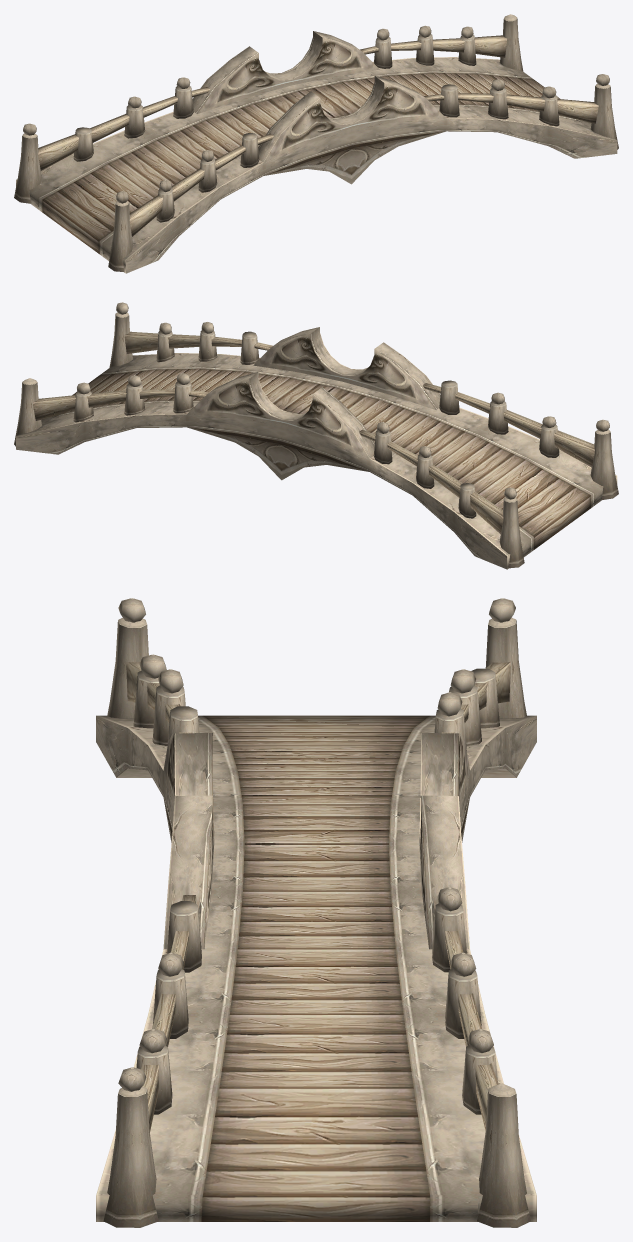
The model's file is arcanebridge2.dae.
3 views of the same model, one above another, from view 1: azimuth 30°, elevation 25°; view 2: azimuth 150°, elevation 25°; view 3: azimuth 270°, elevation 25° (orthographic). The views are drawn at different scales.
Visible parts, largest first — view 1: bridge0; view 2: bridge0; view 3: bridge0.
Boxes of the visible parts, x1,y1,x2,y2 form: bridge0: [14, 14, 618, 273]; bridge0: [14, 302, 618, 569]; bridge0: [96, 598, 536, 1227].
Bounding box in the file's own units: 48.97 × 18.51 × 10.11.
